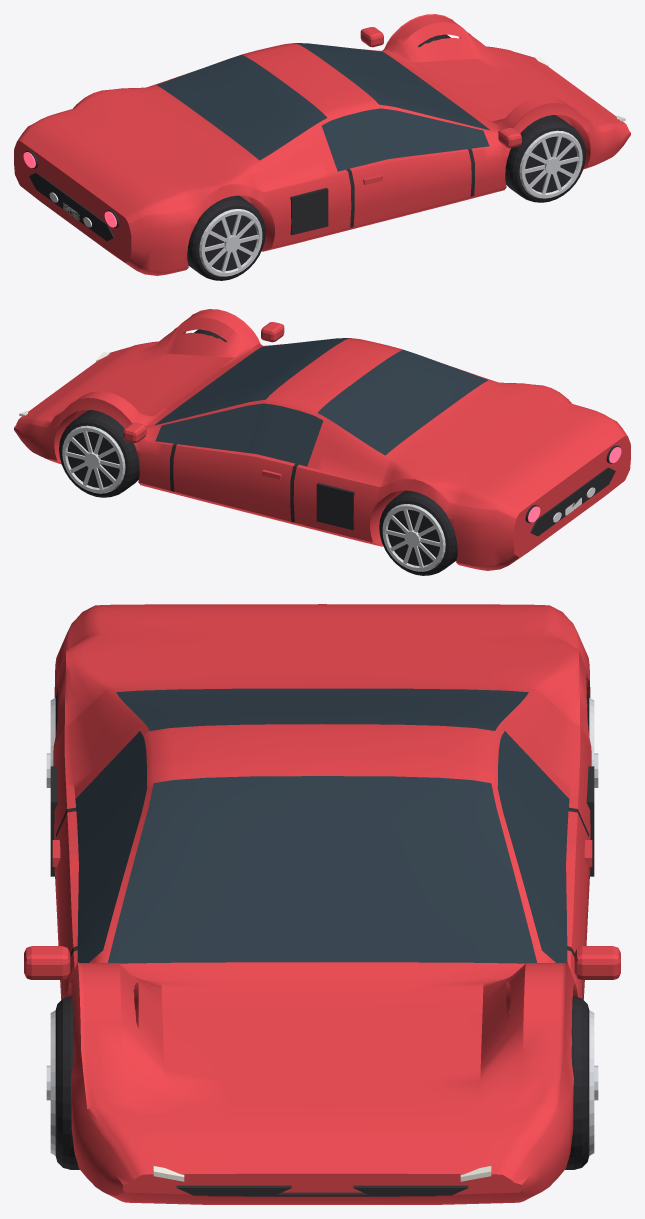
Rendered from ferarri_488.fbx.
3 views of the same model, one above another, from view 1: azimuth 30°, elevation 25°; view 2: azimuth 150°, elevation 25°; view 3: azimuth 270°, elevation 25° (orthographic). The views are drawn at different scales.
Parts seen in each view (by area): view 1: Body.035, Glass.035, Tire.035, Trim.035, Rim.035; view 2: Body.035, Glass.035, Tire.035, Rim.035, Trim.035; view 3: Body.035, Glass.035, Tire.035, Trim.035, Rim.035.
Boxes of the visible parts, box(x1,y1,x2,y2) form: Body.035: box(14, 14, 630, 275); Glass.035: box(156, 43, 489, 171); Tire.035: box(187, 34, 585, 280); Trim.035: box(24, 143, 575, 270); Rim.035: box(199, 130, 582, 276); Body.035: box(14, 309, 630, 570); Glass.035: box(155, 338, 488, 466); Tire.035: box(59, 329, 457, 575); Rim.035: box(62, 425, 445, 571); Trim.035: box(67, 431, 620, 565); Body.035: box(24, 604, 620, 1204); Glass.035: box(75, 688, 569, 963); Tire.035: box(55, 691, 589, 1169); Trim.035: box(50, 766, 594, 1196); Rim.035: box(46, 698, 598, 1155).
Size of the model in its own units: 1536 by 350 by 773.
